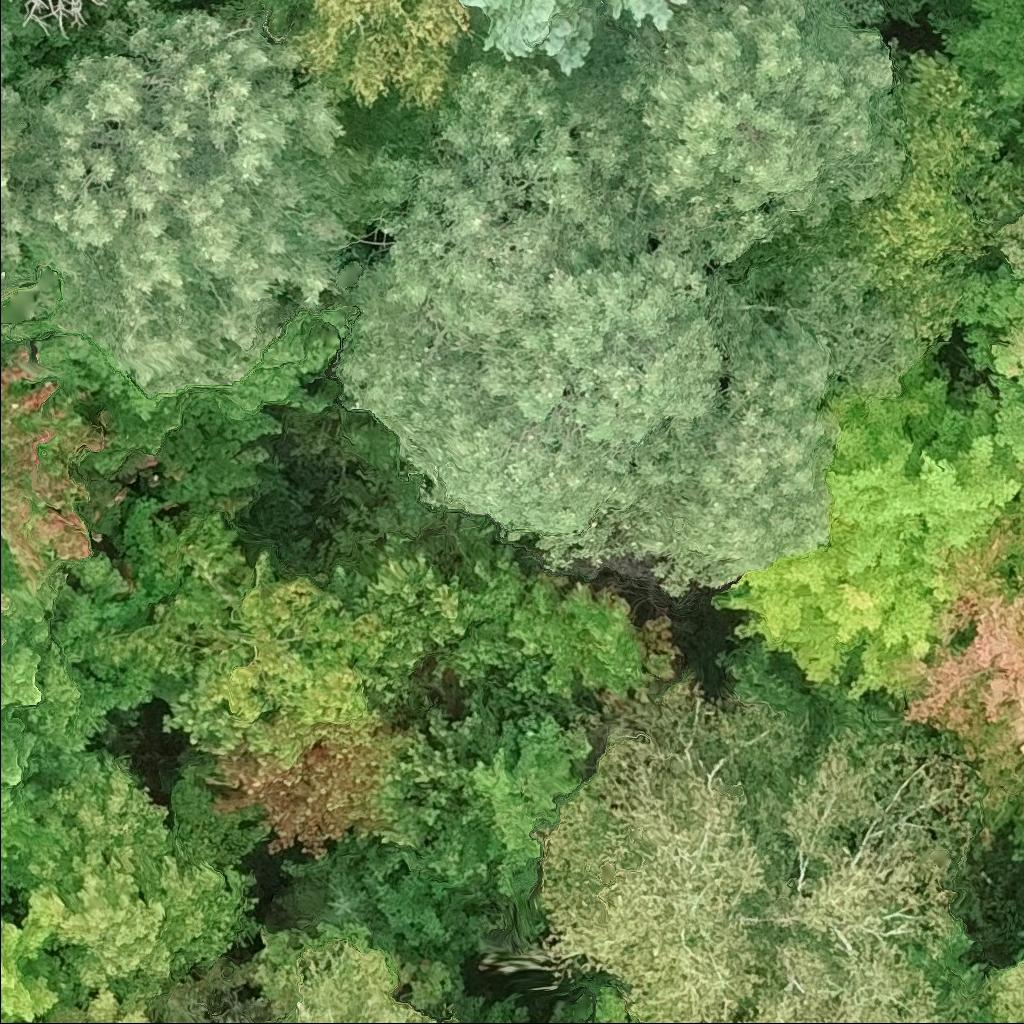crown: (330, 52, 908, 598), (534, 662, 985, 1023), (7, 0, 369, 398), (710, 356, 1022, 703), (594, 0, 909, 302), (159, 553, 417, 862), (809, 48, 1023, 361), (21, 748, 256, 1005), (859, 524, 1023, 866), (398, 705, 593, 911), (0, 335, 109, 595), (243, 915, 469, 1023), (0, 15, 58, 338), (458, 0, 694, 77), (0, 653, 60, 891), (0, 882, 71, 1021), (37, 985, 154, 1023), (573, 980, 647, 1023), (975, 960, 1023, 1023), (998, 207, 1023, 284), (0, 581, 14, 614), (1012, 314, 1023, 352)
